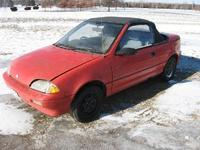Car: (1, 10, 187, 131)
